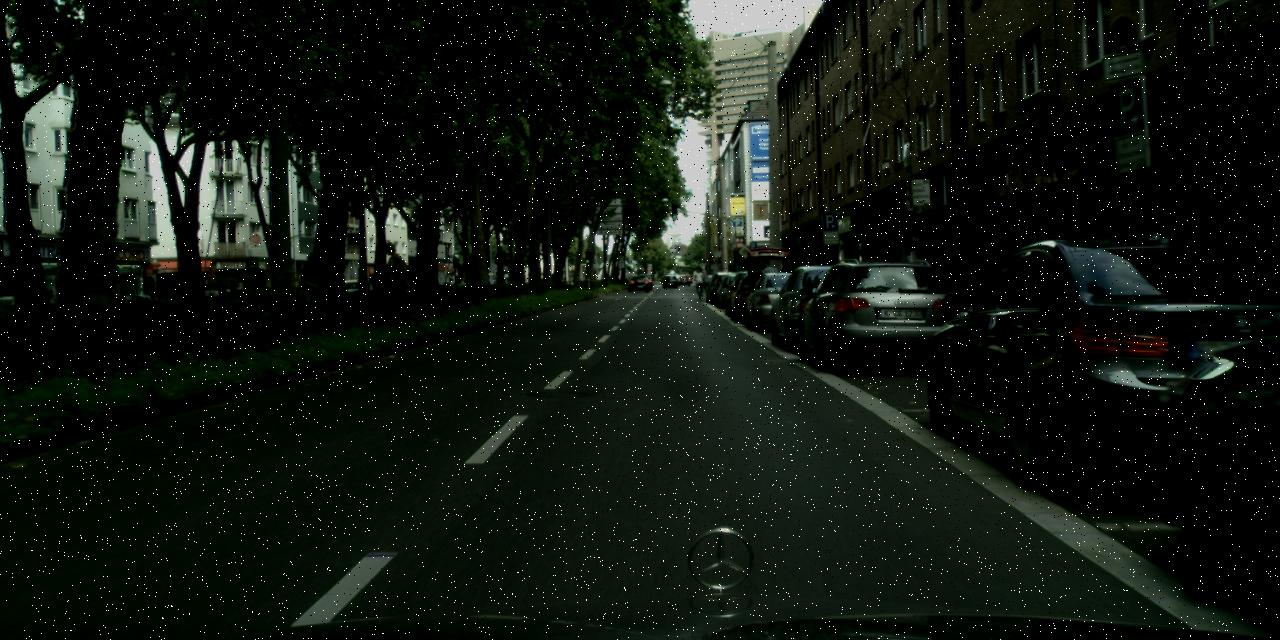ped: (380, 240, 416, 328), (759, 262, 779, 312), (694, 268, 703, 292)
